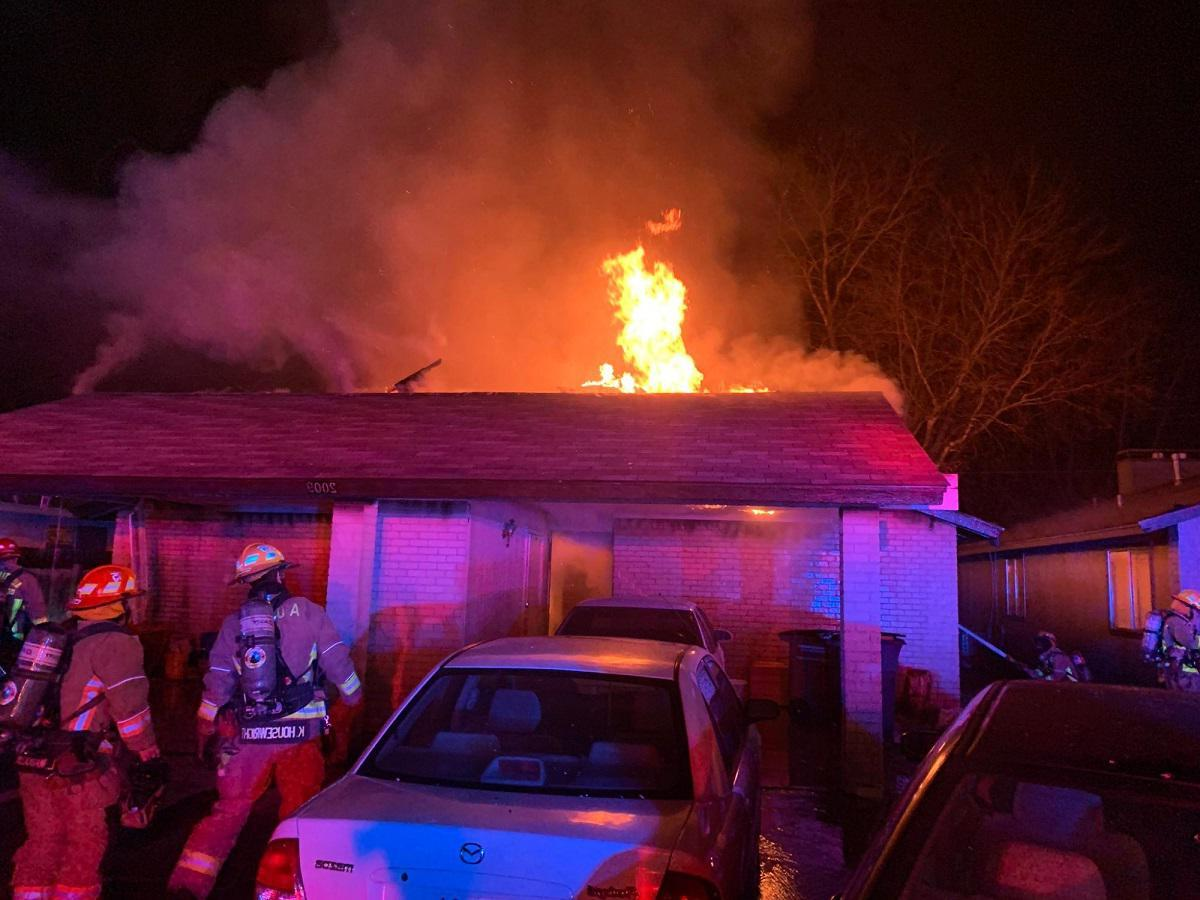Fire: (582, 203, 768, 397)
